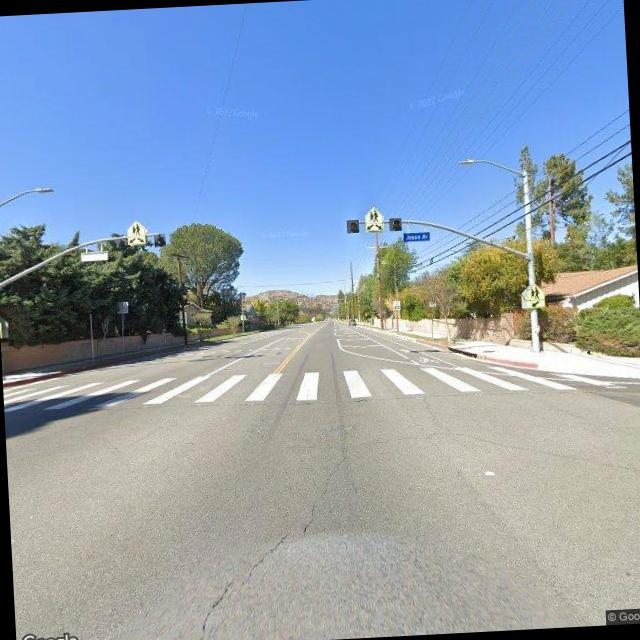pothole: (192, 440, 364, 638)
